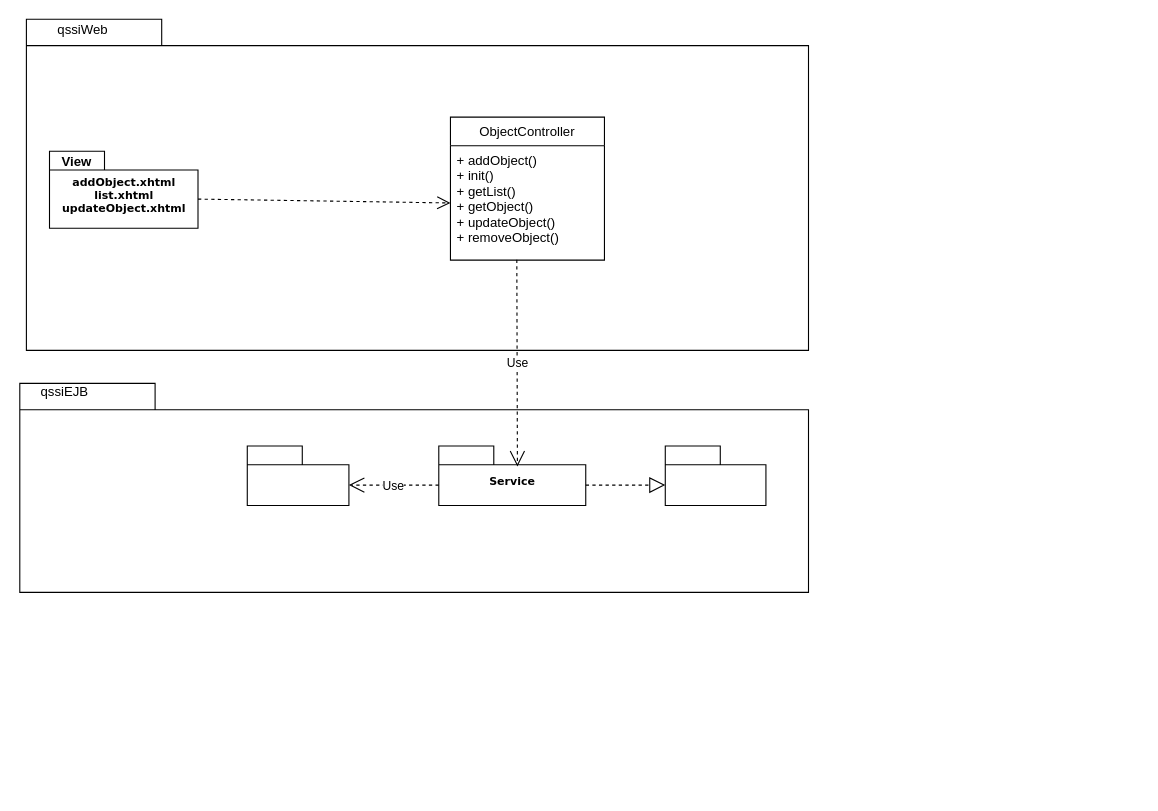
Some shapes in this 1158 by 811 pixel diagram are drawn without their labels. Here are the shapes that lost their labels. From the top down, the centre of each, then its label:
(297,475): Entity
(715,475): Interfaces
